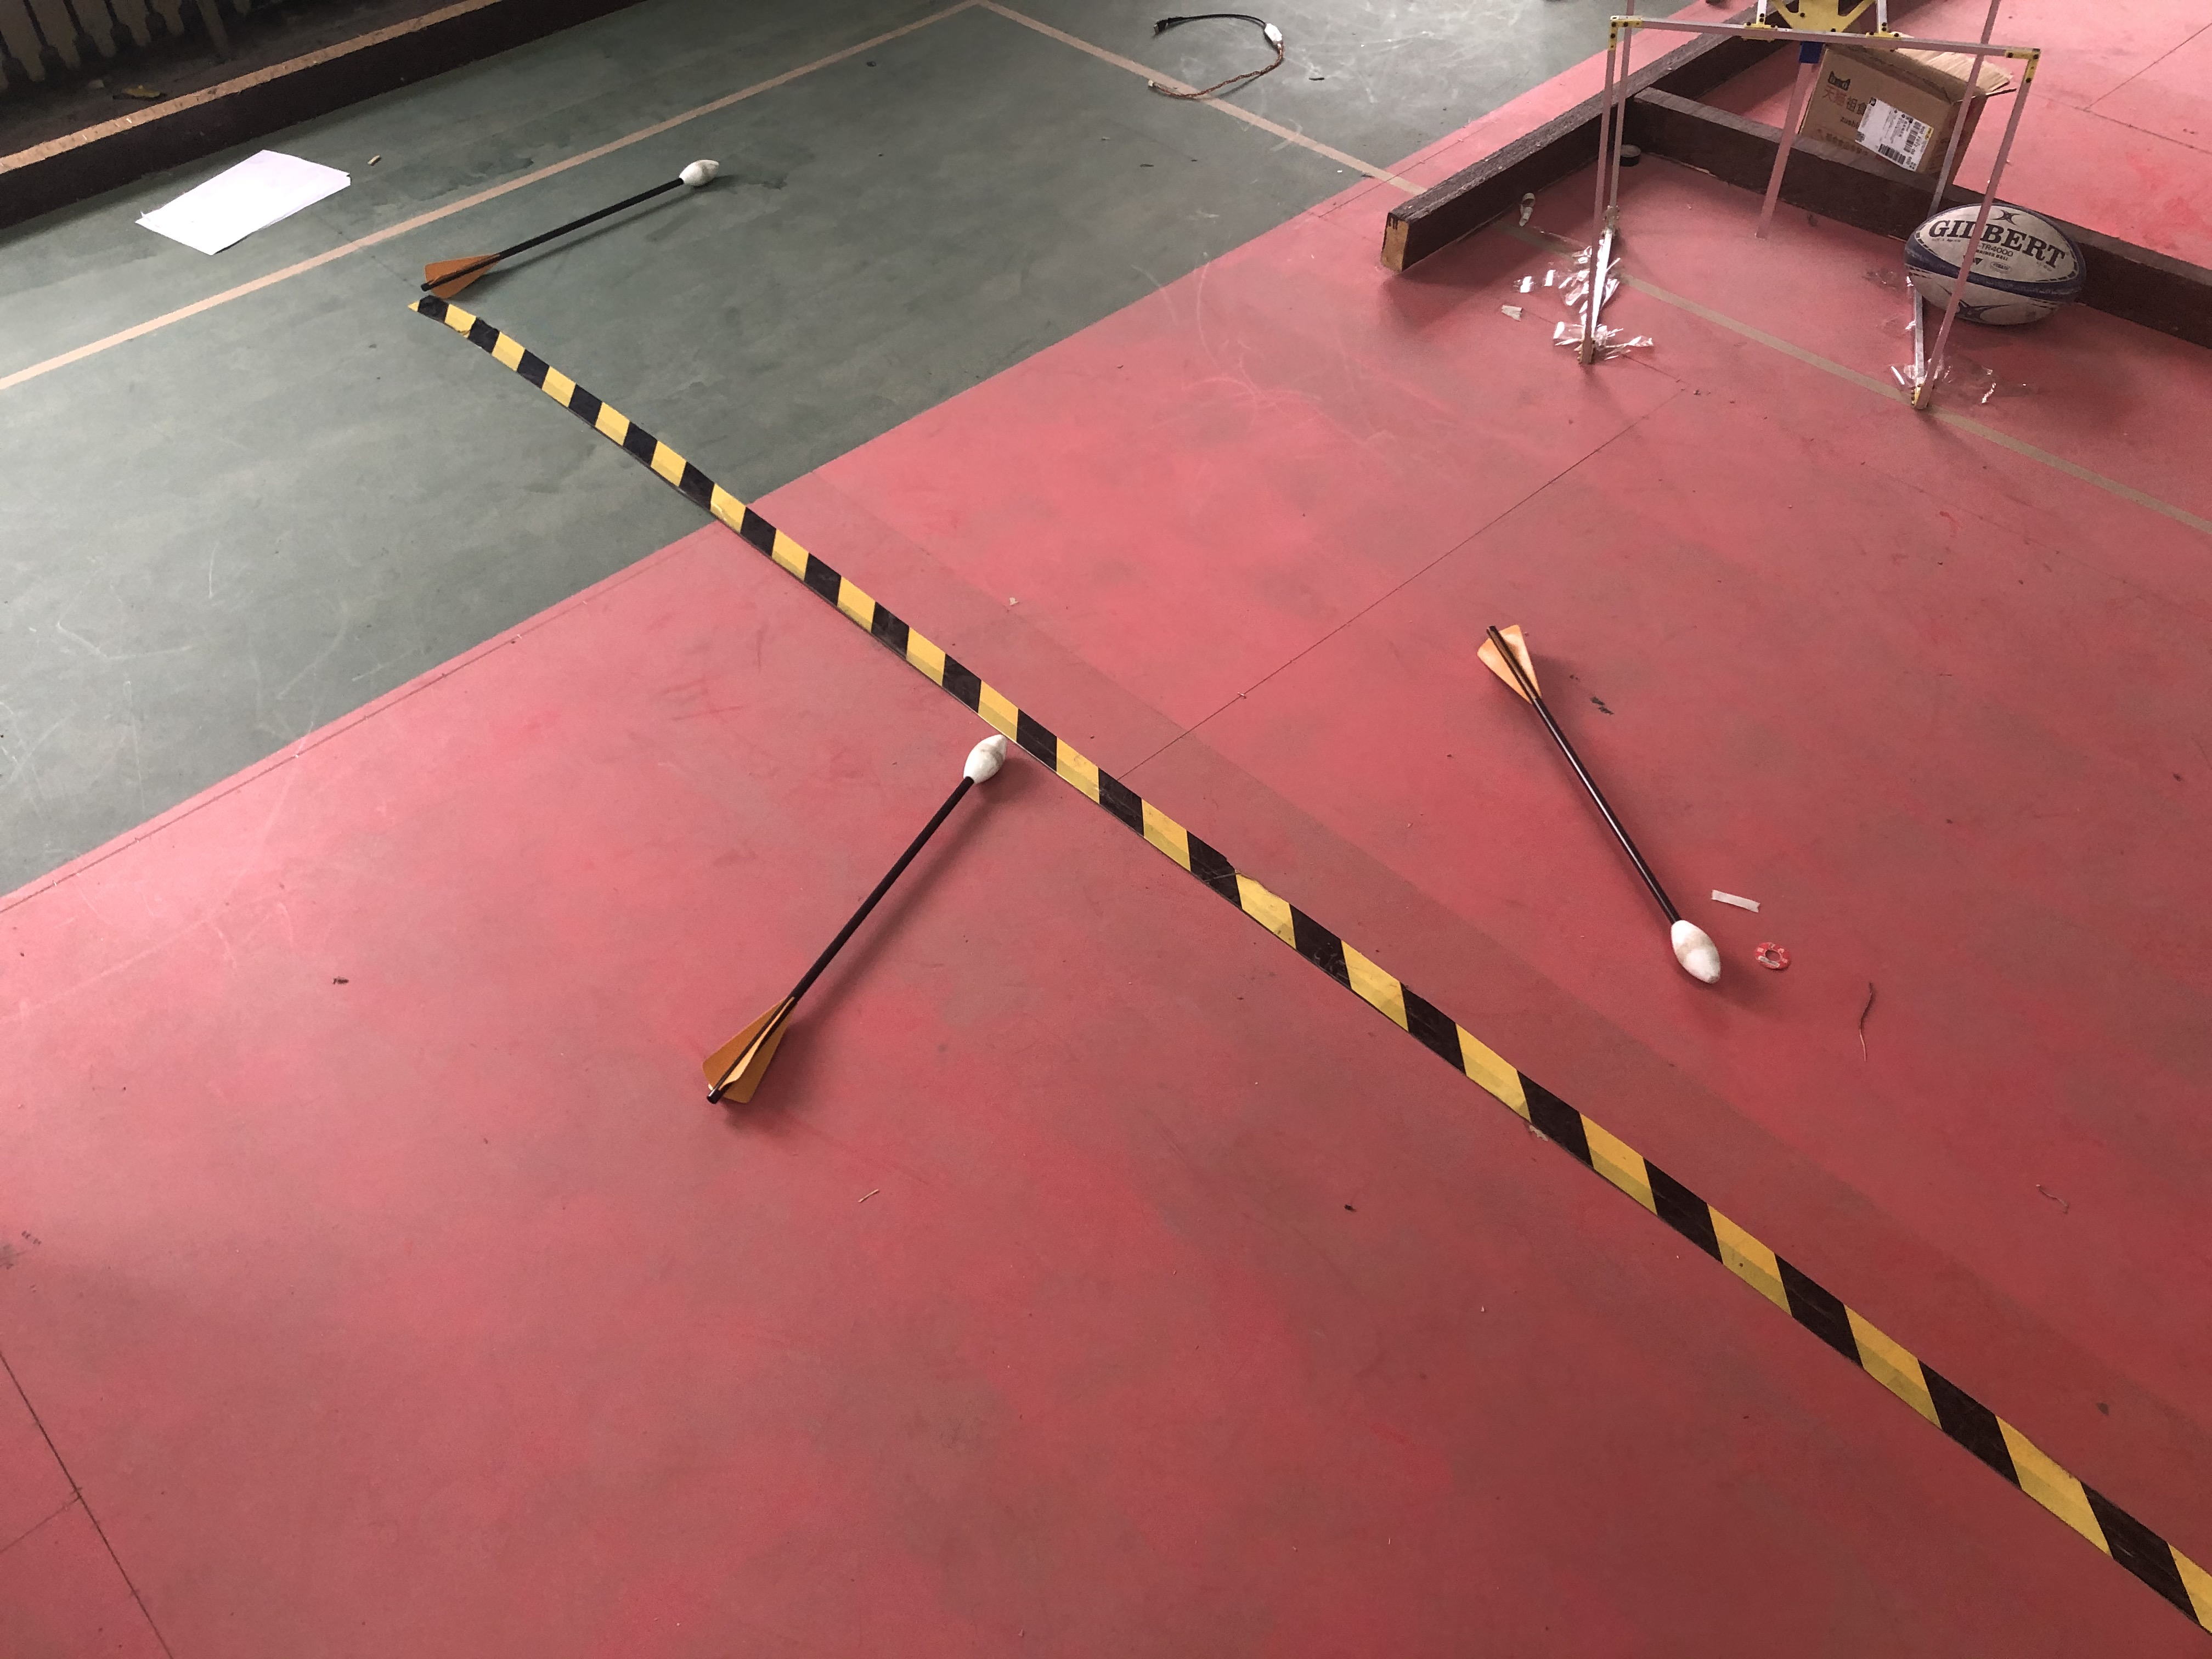arrow: (693, 723, 1010, 1124), (1470, 620, 1730, 983), (418, 157, 725, 305)
arrowFront: (1669, 913, 1724, 981), (960, 732, 1008, 791), (678, 159, 725, 186)
